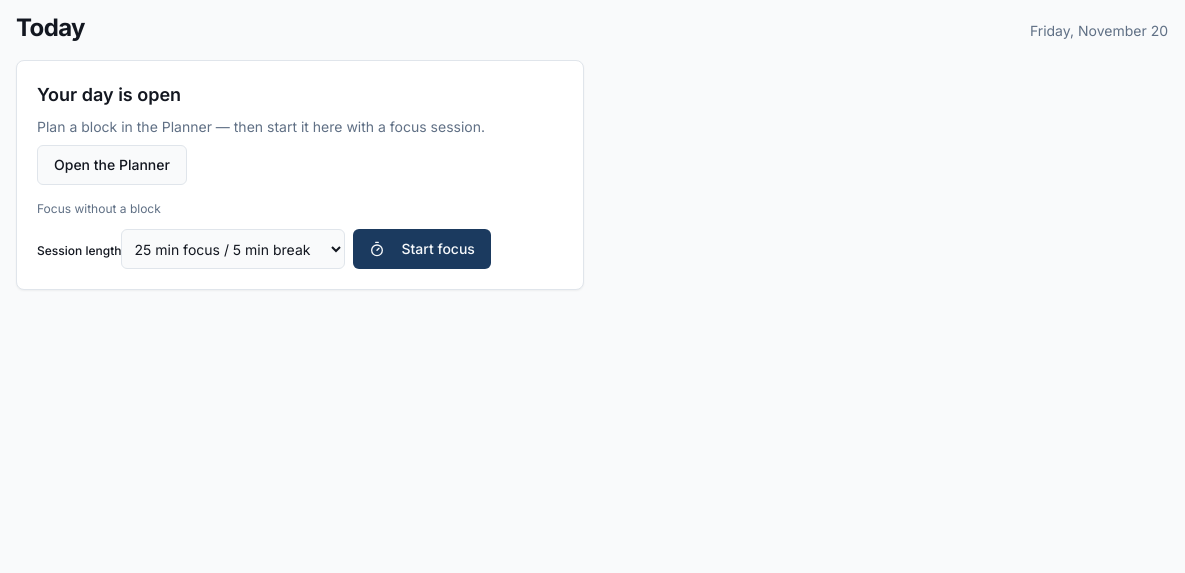
Today › runs a focus session: start, count a distraction, finish into a break
Click the button "Start focus" at (422, 249), box [354, 229, 491, 269]
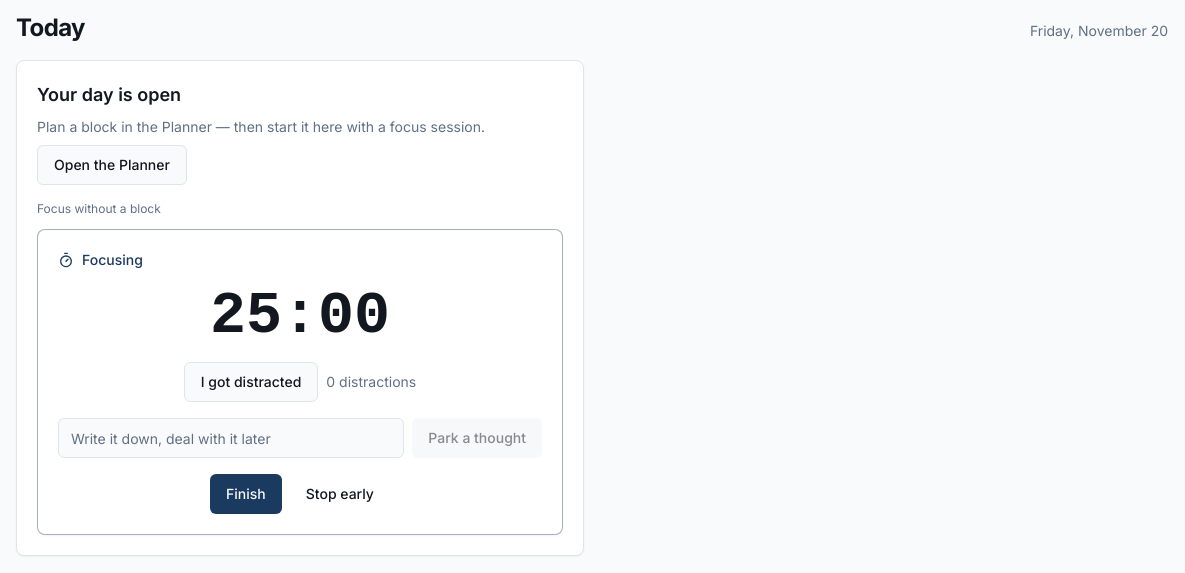
Result: the text "25:00" is shown at [210, 282, 390, 350]
Click the button "I got distracted" at (251, 382), box [184, 362, 318, 402]
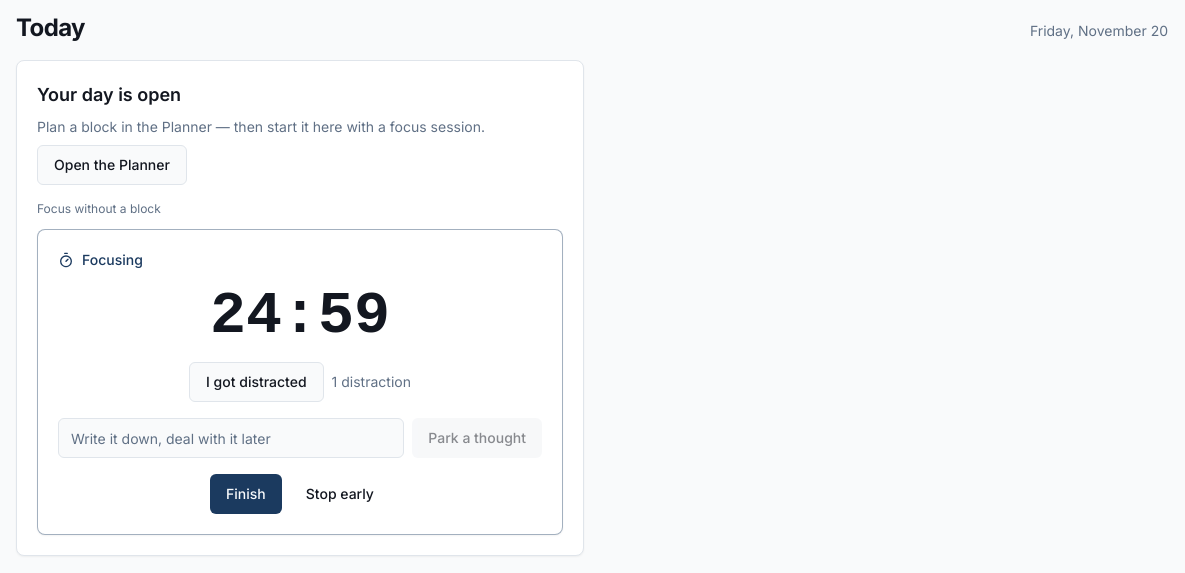
Result: the text with test id "distractions" reads "1 distraction" at [332, 373, 411, 390]
Click the button "Finish" at (246, 494), box [210, 474, 282, 514]
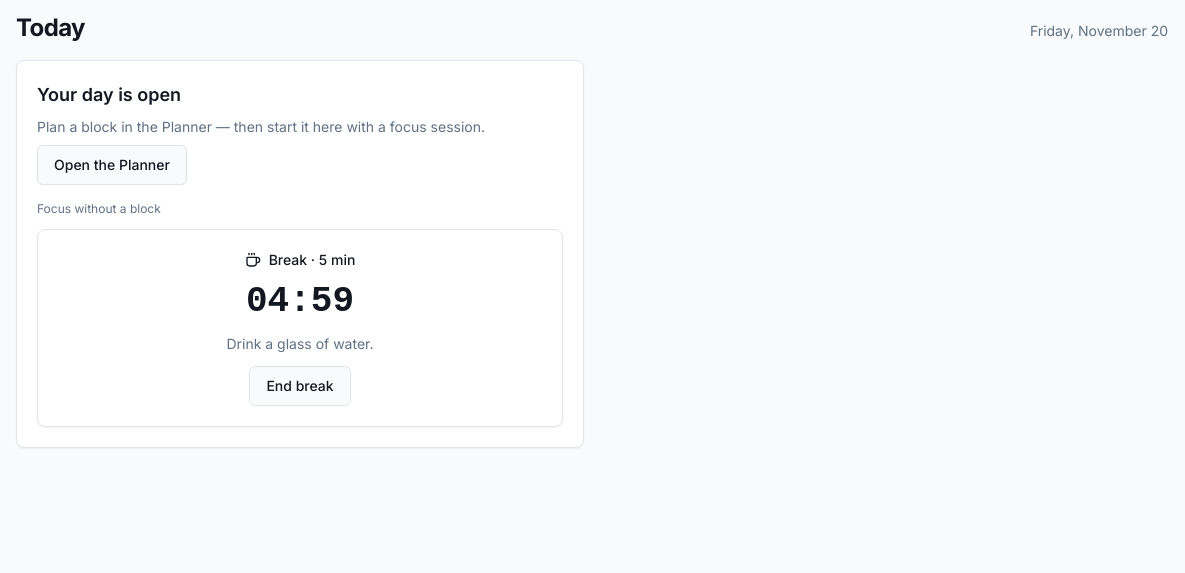
Result: the text "Break · 5 min" is shown at [245, 251, 355, 268]
